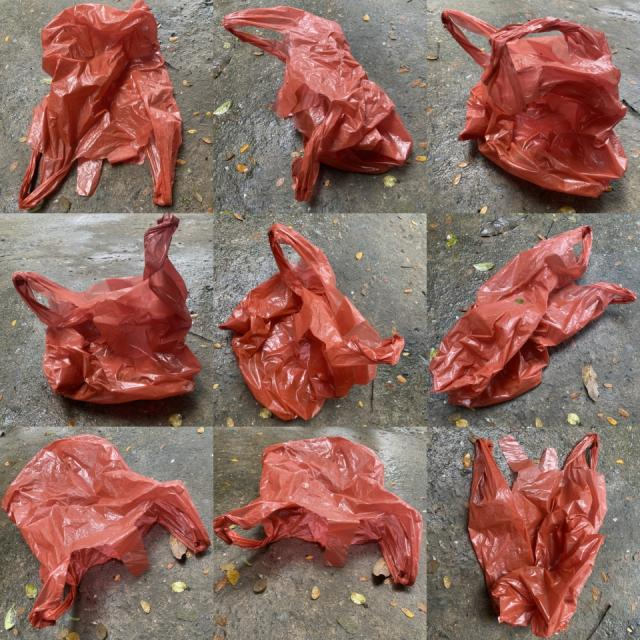Single-layer Plastic: (2, 435, 210, 628), (430, 226, 636, 408), (224, 6, 412, 201), (219, 224, 405, 420), (12, 214, 201, 404), (441, 10, 628, 197), (18, 0, 181, 209), (214, 436, 422, 586), (468, 434, 608, 638)
